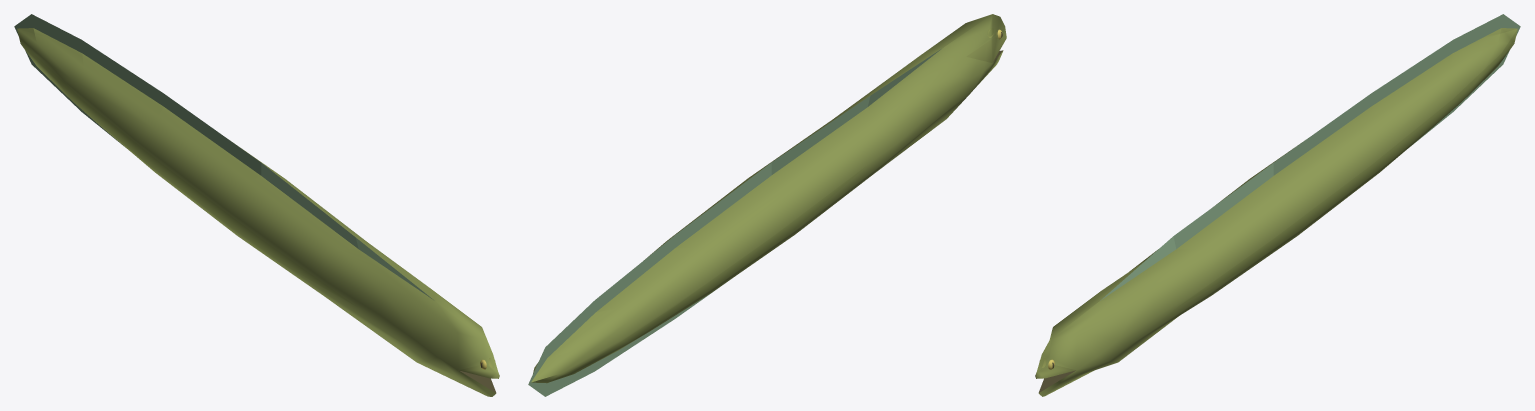
Rendered from Eel.fbx.
3 views of the same model, side by side, from view 1: azimuth 30°, elevation 25°; view 2: azimuth 150°, elevation 25°; view 3: azimuth 330°, elevation 25° (orthographic).
Visible parts, largest first — view 1: pCube4; view 2: pCube4; view 3: pCube4.
Part boxes in pixels (x1,y1,x2,y2): pCube4: (14,14,499,396); pCube4: (528,14,1006,396); pCube4: (1035,14,1520,396).
Bounding box in the file's own units: 0.8785 × 1.16 × 11.41.
